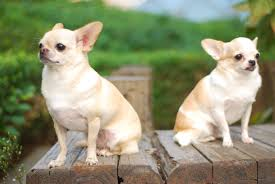Chihuahua: (16, 16, 155, 162), (168, 19, 270, 156)
